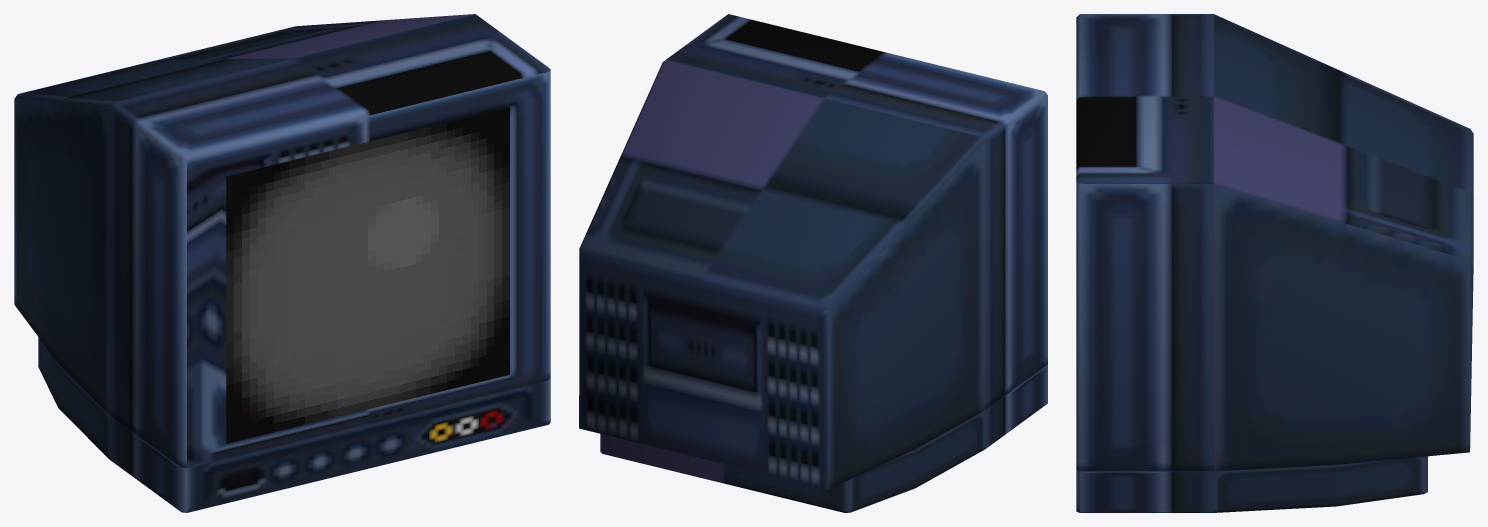
Rendered from robj_rst_TV.dae.
The picture shows the model from 3 angles, left to right: view 1: azimuth 30°, elevation 25°; view 2: azimuth 150°, elevation 25°; view 3: azimuth 270°, elevation 25°; orthographic projection. The views are drawn at different scales.
Parts seen in each view (by area): view 1: robj_rst_TV; view 2: robj_rst_TV; view 3: robj_rst_TV.
Part boxes in pixels (x1,y1,x2,y2): robj_rst_TV: (14, 14, 550, 512); robj_rst_TV: (579, 14, 1047, 512); robj_rst_TV: (1076, 14, 1473, 512).
Size of the model in its own units: 22.1 by 20.4 by 22.1.
Materials: 2 (2 with a texture image).
